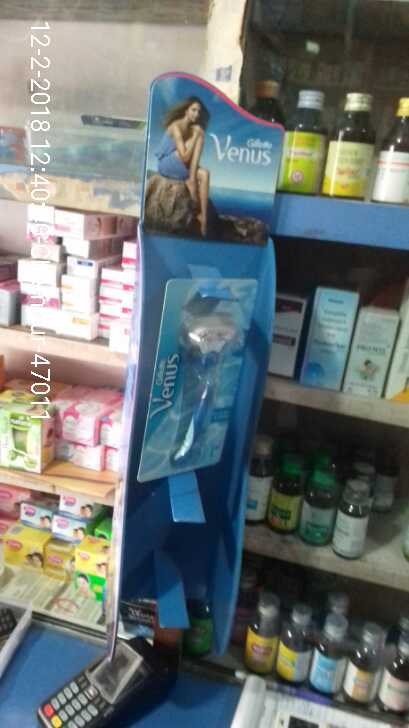venus: (146, 275, 242, 481)
